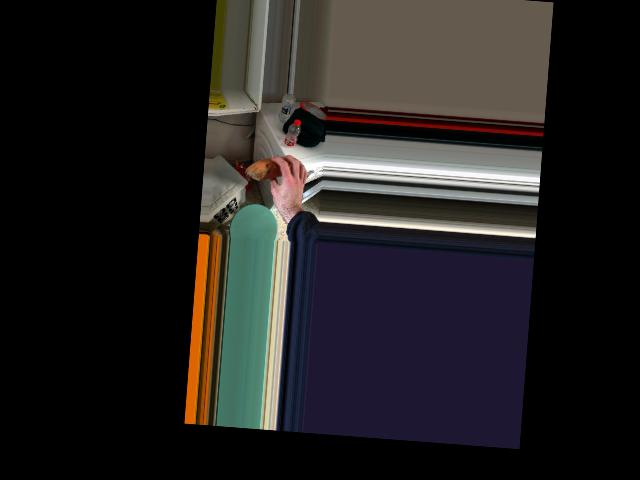sweet_potato: (247, 157, 296, 182)
